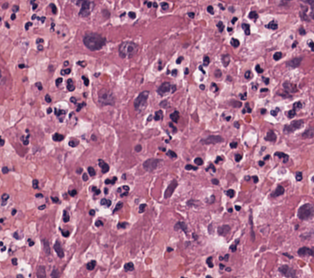nucleus: (83, 32, 105, 50), (134, 91, 148, 111), (119, 41, 136, 57), (98, 88, 114, 104), (164, 180, 176, 198), (79, 1, 93, 16), (143, 158, 160, 170), (157, 82, 171, 95), (202, 135, 223, 143), (175, 221, 187, 233), (271, 185, 284, 196), (98, 159, 108, 172), (274, 152, 288, 161), (249, 215, 254, 240), (265, 130, 276, 141), (55, 109, 65, 121), (217, 225, 229, 235), (66, 78, 74, 91), (187, 199, 200, 206), (266, 21, 277, 29), (170, 111, 178, 122), (222, 54, 229, 66), (1, 193, 8, 205), (230, 38, 239, 47), (154, 110, 162, 120), (53, 133, 63, 141), (100, 198, 110, 206), (242, 23, 249, 34), (210, 82, 218, 91), (76, 102, 84, 111), (167, 150, 176, 158), (225, 189, 234, 197), (114, 202, 122, 211), (105, 177, 116, 183), (63, 210, 69, 221), (249, 11, 257, 19), (194, 157, 202, 165), (91, 186, 99, 194), (273, 52, 282, 59), (243, 103, 250, 112), (21, 135, 28, 144), (69, 139, 78, 146), (217, 21, 223, 31), (255, 65, 262, 73), (160, 100, 168, 107), (169, 123, 176, 131), (207, 164, 215, 171), (185, 164, 196, 169), (50, 4, 56, 13), (61, 68, 70, 74), (82, 76, 88, 85), (88, 166, 94, 175), (32, 179, 38, 188), (231, 101, 241, 106), (161, 2, 168, 9), (244, 71, 251, 78), (35, 82, 42, 89), (230, 141, 237, 148), (69, 189, 76, 196), (207, 5, 213, 13), (203, 56, 209, 64), (55, 77, 61, 85), (139, 204, 145, 212), (61, 230, 69, 236), (128, 12, 135, 18), (187, 12, 194, 18), (25, 22, 31, 29), (36, 38, 43, 44), (235, 154, 241, 161), (215, 156, 222, 162), (208, 195, 214, 202), (95, 220, 102, 226), (31, 1, 36, 9), (144, 1, 152, 6), (77, 61, 85, 66), (45, 94, 50, 102), (118, 222, 126, 227), (12, 5, 18, 11), (176, 57, 182, 63), (70, 97, 76, 103), (271, 109, 277, 115), (135, 145, 141, 151), (2, 167, 8, 173), (212, 178, 218, 184), (199, 66, 204, 73), (82, 173, 87, 180), (51, 197, 58, 202), (231, 17, 236, 23), (215, 70, 220, 76), (240, 93, 245, 99), (252, 176, 257, 182), (13, 232, 18, 238), (28, 239, 33, 245), (2, 3, 7, 8), (219, 4, 224, 9), (37, 45, 42, 50), (263, 78, 268, 83), (235, 205, 240, 210), (89, 210, 94, 215), (184, 68, 188, 74), (172, 69, 176, 75), (39, 205, 45, 209), (260, 88, 267, 91), (0, 138, 3, 145), (153, 2, 157, 7), (11, 14, 15, 19), (32, 15, 37, 19), (5, 22, 9, 27), (47, 108, 51, 113), (225, 116, 230, 120), (234, 122, 238, 127), (264, 155, 269, 159), (36, 193, 42, 196), (64, 61, 68, 65), (200, 85, 204, 89), (261, 109, 265, 113), (77, 168, 81, 172), (228, 27, 231, 32), (19, 64, 24, 67), (104, 188, 107, 193), (12, 209, 15, 214)
